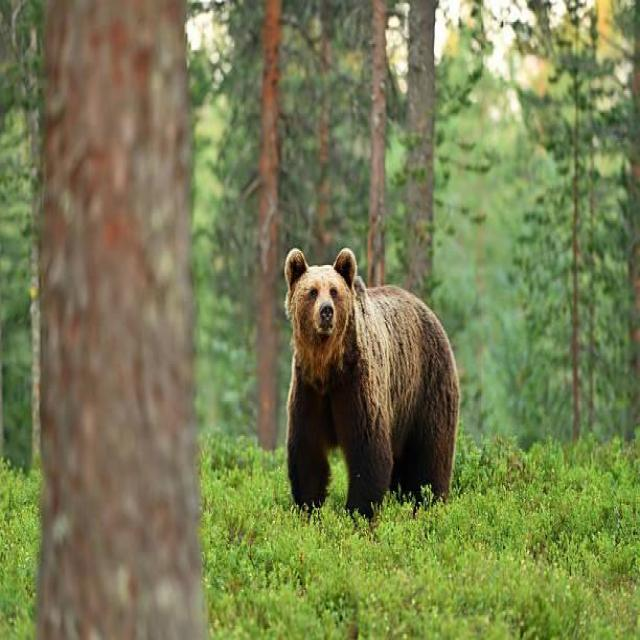Bear: (282, 249, 463, 527)
